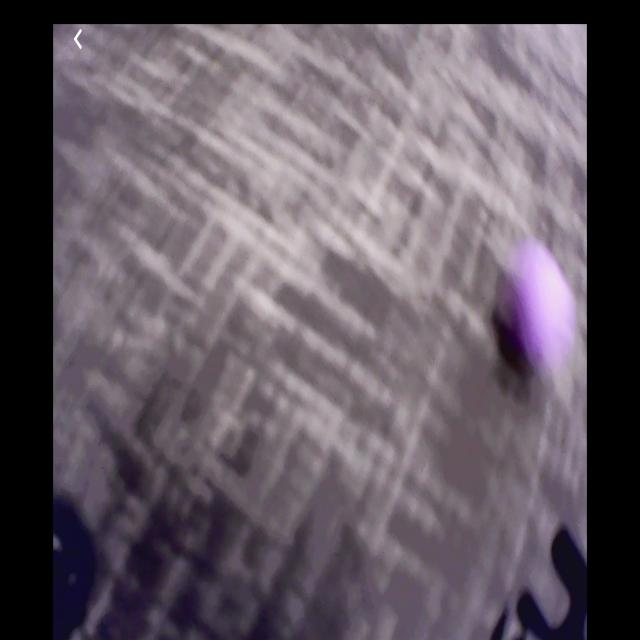ball: (502, 256, 571, 365)
